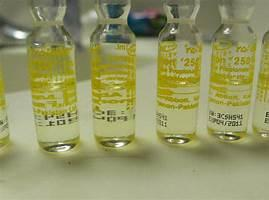Syringe: (27, 0, 82, 156), (86, 2, 143, 150), (152, 2, 203, 150), (208, 0, 260, 145)
